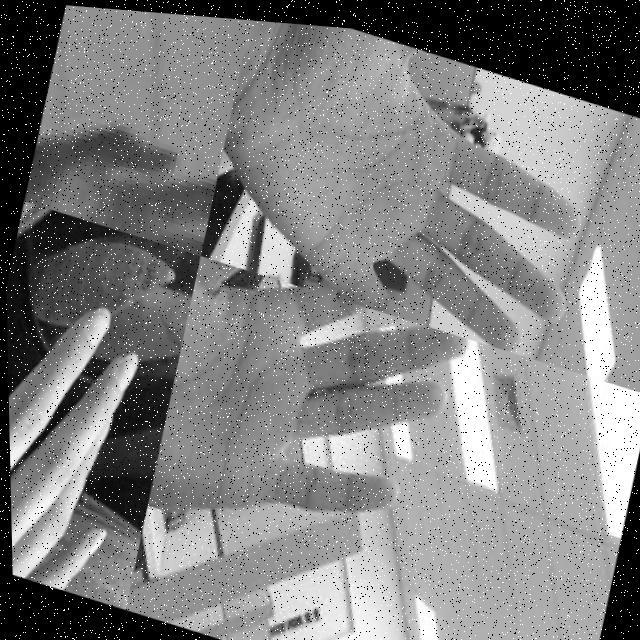no-gloves: (202, 13, 615, 359), (139, 248, 475, 590), (5, 274, 156, 602), (21, 90, 225, 253)
